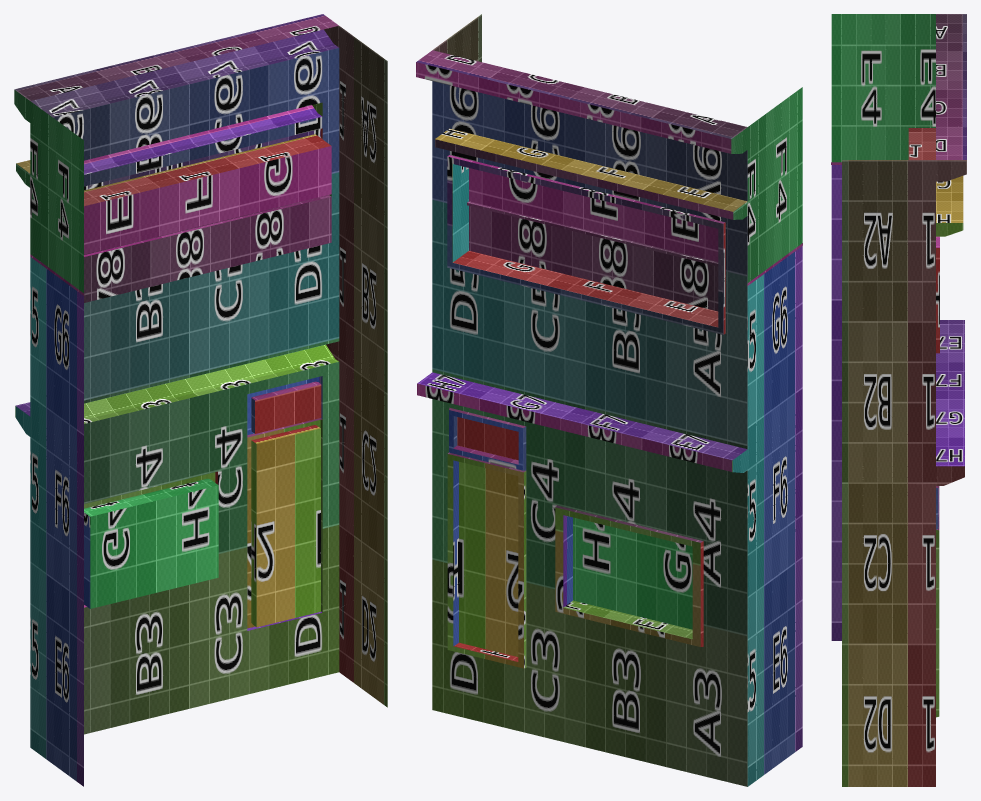
File: casa-01.dae
3 renders of one model, left to right at view 1: azimuth 30°, elevation 25°; view 2: azimuth 150°, elevation 25°; view 3: azimuth 270°, elevation 25°, orthographic. The views are drawn at different scales.
Visible parts, largest first — view 1: Plane_051; view 2: Plane_051; view 3: Plane_051.
Boxes of the visible parts, box(x1,y1,x2,y2) form: Plane_051: box(14, 14, 387, 786); Plane_051: box(416, 14, 802, 786); Plane_051: box(831, 14, 966, 786).
Bounding box in the file's own units: 3 × 1.18 × 6.
